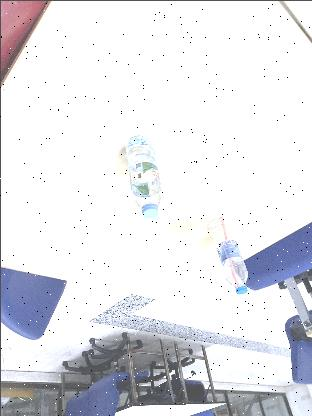Plastic Bottle: (204, 214, 251, 296), (120, 132, 162, 219)
